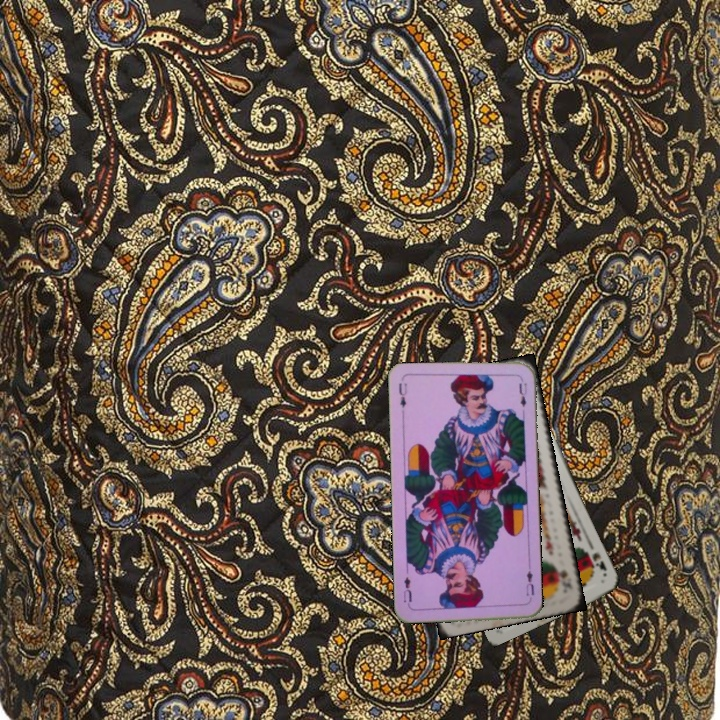EU: (522, 563, 537, 604), (395, 379, 410, 410)
SK: (552, 562, 574, 588), (588, 549, 609, 574)
